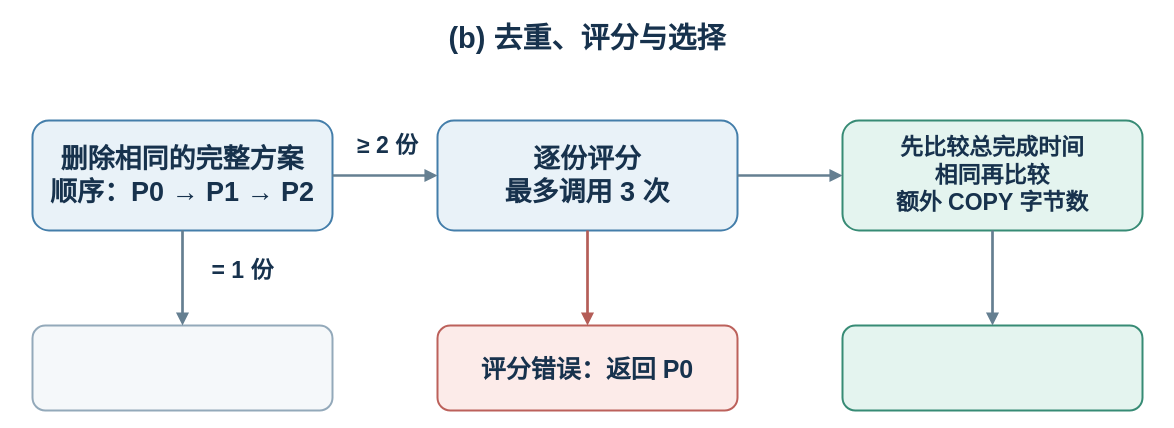
The diagram is 1174 pixels wide and 428 high, and some of its shapes have lost their labels. Each missing label, with the centre of its shape:
"仅一份：直接返回 P0" goes at point 182,367.
"指标相同：保留先构造的方案" goes at point 992,367.
